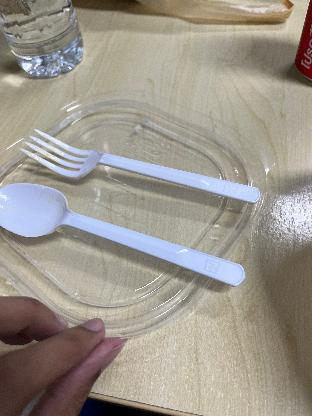Others: (0, 178, 252, 294), (17, 124, 264, 206)
